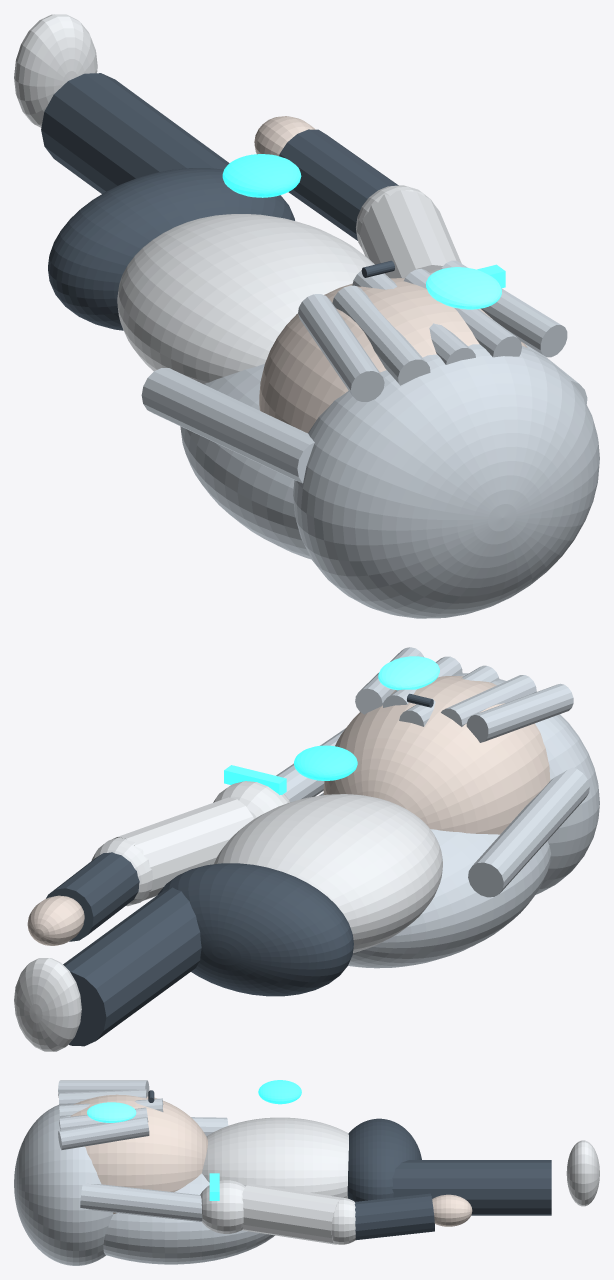
Rendered from ai_companion_real3d_v1.glb.
The picture shows the model from 3 angles, top to bottom: view 1: azimuth 30°, elevation 25°; view 2: azimuth 150°, elevation 25°; view 3: azimuth 270°, elevation 25°; orthographic projection. The views are drawn at different scales.
Visible parts, largest first — view 1: HairCap, Torso, SkirtCore, Leg, Head, HairBack, SideHairL, Forearm, UpperArm, Boot, Bang0, Bang1 (+6 smaller); view 2: Head, Torso, SkirtCore, Leg, HairBack, SideHairL, UpperArm, HairCap, Boot, Forearm, Bang0, Hand (+10 smaller); view 3: HairCap, Torso, Head, Leg, HairBack, UpperArm, SkirtCore, SideHairR, Forearm, Shoulder, Bang4, Boot (+10 smaller).
Boxes of the visible parts, <box> form: HairCap: <box>293,344,599,618</box>; Torso: <box>117,214,374,383</box>; SkirtCore: <box>48,168,294,330</box>; Leg: <box>41,73,229,193</box>; Head: <box>259,278,527,433</box>; HairBack: <box>180,363,311,559</box>; SideHairL: <box>141,368,314,483</box>; Forearm: <box>279,129,398,240</box>; UpperArm: <box>359,190,461,278</box>; Boot: <box>14,14,97,127</box>; Bang0: <box>298,294,384,401</box>; Bang1: <box>332,285,430,385</box>; Head: <box>323,676,550,834</box>; Torso: <box>214,794,442,952</box>; SkirtCore: <box>158,863,353,996</box>; Leg: <box>63,887,201,1046</box>; HairBack: <box>319,793,551,968</box>; SideHairL: <box>468,767,589,897</box>; UpperArm: <box>112,797,253,900</box>; HairCap: <box>455,673,599,894</box>; Boot: <box>14,958,81,1051</box>; Forearm: <box>46,852,139,941</box>; Bang0: <box>466,683,573,742</box>; Hand: <box>27,895,84,945</box>; HairCap: <box>14,1105,113,1265</box>; Torso: <box>202,1117,348,1198</box>; Head: <box>70,1094,207,1213</box>; Leg: <box>392,1160,551,1215</box>; HairBack: <box>103,1173,274,1264</box>; UpperArm: <box>242,1183,340,1244</box>; SkirtCore: <box>347,1118,421,1201</box>; SideHairR: <box>80,1183,202,1221</box>; Forearm: <box>354,1193,434,1240</box>; Shoulder: <box>200,1180,245,1233</box>; Bang4: <box>58,1116,149,1150</box>; Boot: <box>566,1140,599,1206</box>.
Size of the model in its own units: 1.29 by 0.9581 by 2.96.
